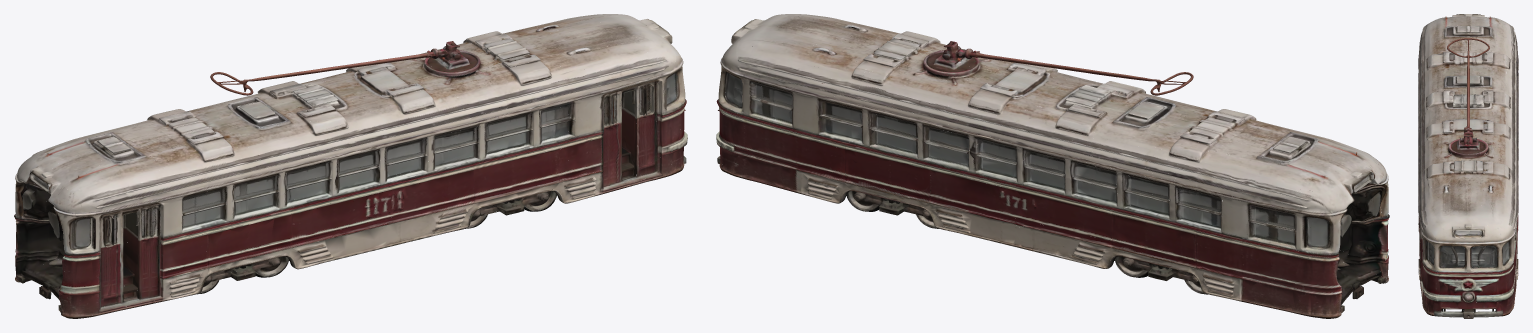
Rendered from ktm1.glb.
3 views of the same model, side by side, from view 1: azimuth 30°, elevation 25°; view 2: azimuth 150°, elevation 25°; view 3: azimuth 270°, elevation 25° (orthographic). The views are drawn at different scales.
Parts seen in each view (by area): view 1: KTM-1; view 2: KTM-1; view 3: KTM-1.
Boxes of the visible parts, x1=… form: KTM-1: x1=14, y1=14, x2=687, y2=318; KTM-1: x1=716, y1=14, x2=1389, y2=318; KTM-1: x1=1418, y1=14, x2=1518, y2=318.
Size of the model in its own units: 13.5 by 3.82 by 2.6.
Materials: 1 (1 with a texture image).
